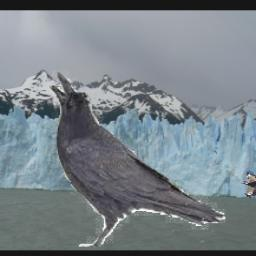Crow: (48, 70, 224, 248)
Woodpecker: (238, 170, 256, 199)
